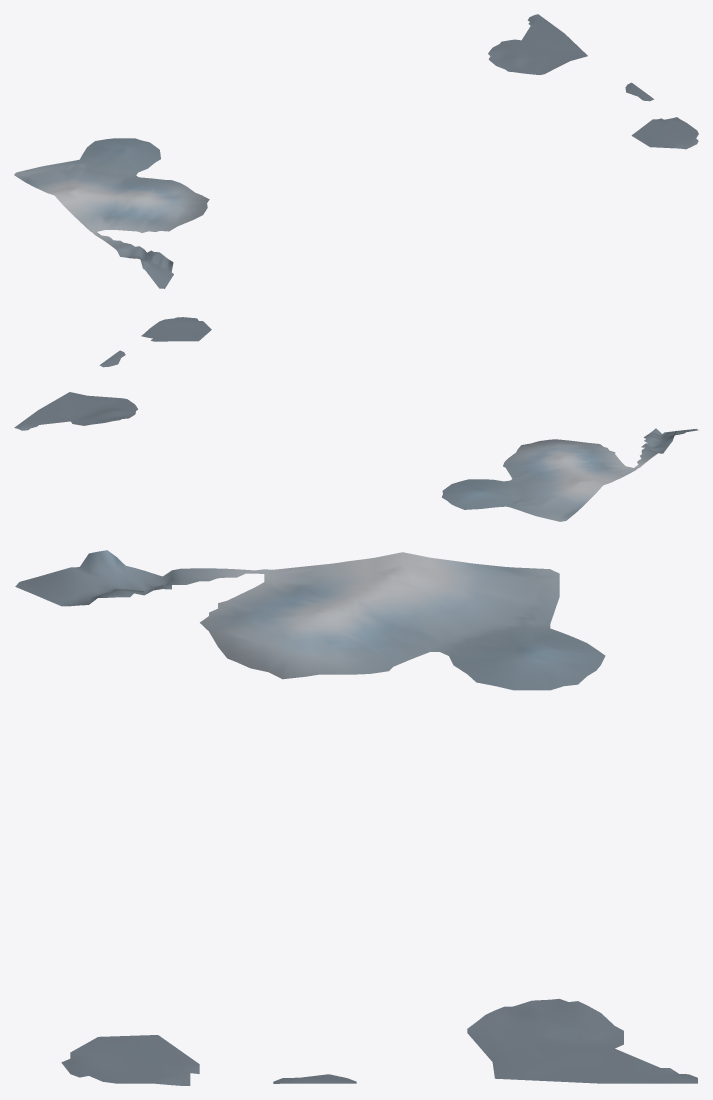
File: frost_tile_x3z1_lod1.glb
3 renders of one model, top to bottom at view 1: azimuth 30°, elevation 25°; view 2: azimuth 150°, elevation 25°; view 3: azimuth 270°, elevation 25°, orthographic. The views are drawn at different scales.
Visible parts, largest first — view 1: frost_tile_x3z1_lod1; view 2: frost_tile_x3z1_lod1; view 3: frost_tile_x3z1_lod1.
Boxes of the visible parts, x1=… form: frost_tile_x3z1_lod1: x1=14, y1=14, x2=698, y2=288; frost_tile_x3z1_lod1: x1=14, y1=317, x2=698, y2=521; frost_tile_x3z1_lod1: x1=15, y1=550, x2=697, y2=1085.
Bounding box in the file's own units: 968 × 29.36 × 555.
